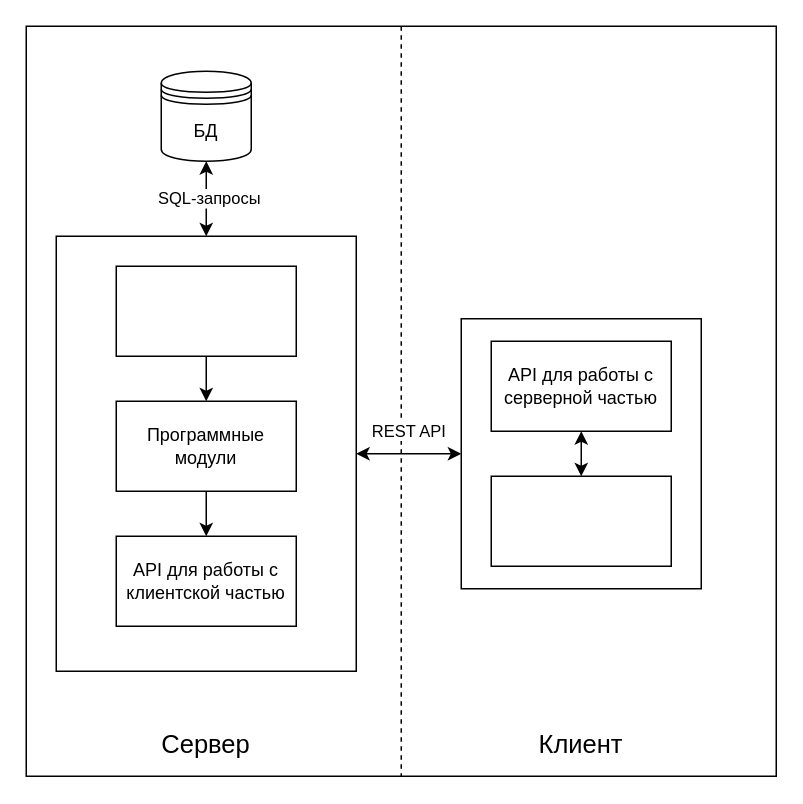
Image size: 803x804. Some labels were removed from this diagram. Here are the shapes that lost their labels. From the top down, the centre of each, then its label:
the point at 205,310: Python-библиотеки
the point at 580,520: Окно браузера
